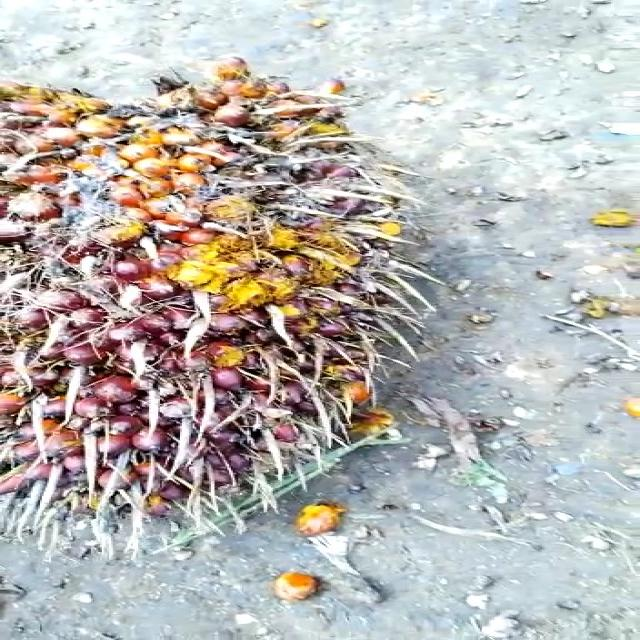palm oil: (0, 58, 447, 537)
